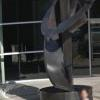Statue: (39, 4, 93, 95)
